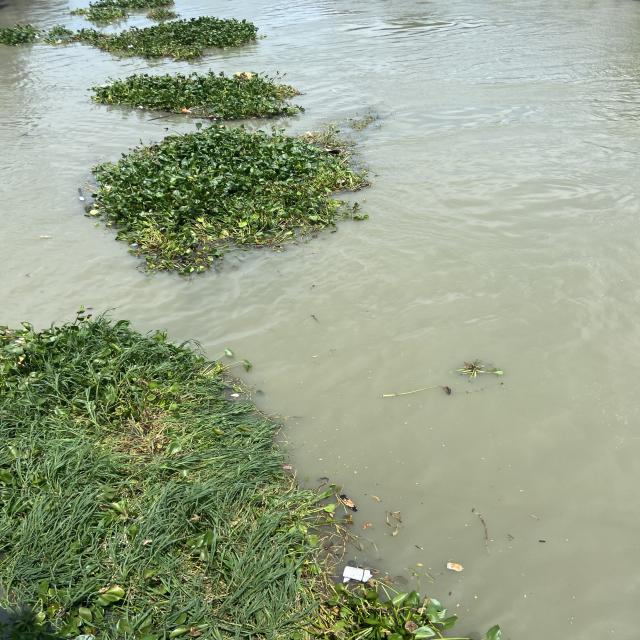Organic Debris: (0, 306, 538, 640), (67, 118, 414, 306), (51, 63, 416, 135), (2, 18, 309, 65), (56, 0, 221, 26), (362, 368, 463, 408), (440, 345, 522, 388), (462, 494, 497, 566)
Plastic: (327, 557, 383, 587), (442, 556, 473, 582), (264, 460, 302, 476), (35, 231, 59, 245), (177, 104, 197, 118), (229, 391, 244, 401)
